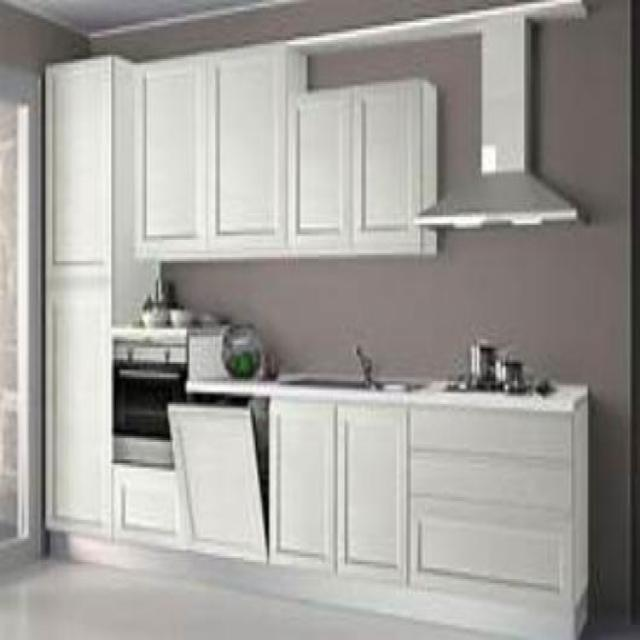dishwasher: (167, 392, 269, 558)
